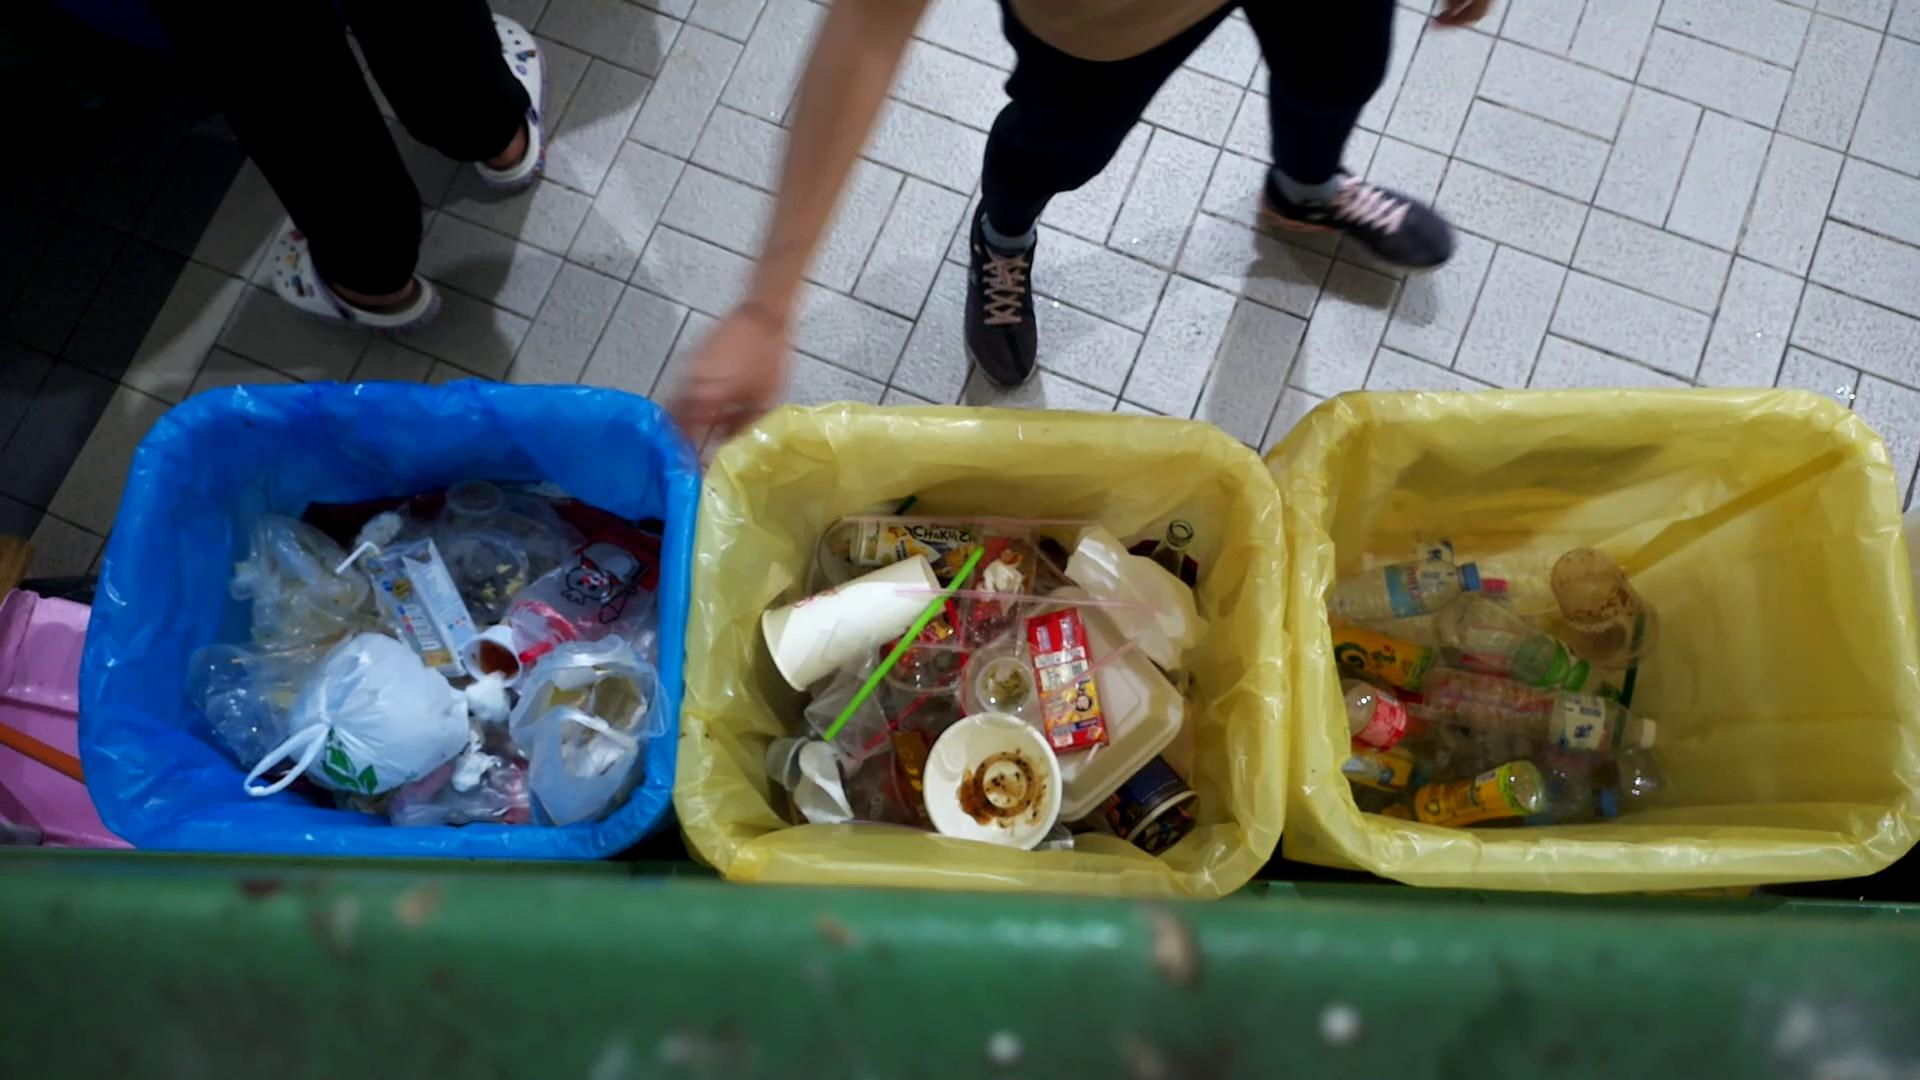filled plastic bag: (240, 632, 472, 798), (506, 634, 662, 825)
food container: (922, 709, 1064, 851)
milk carton: (364, 538, 477, 680), (1025, 608, 1110, 752)
plastic bag: (224, 510, 364, 644)
plastic bottle: (1412, 669, 1660, 754), (1389, 758, 1552, 828), (1332, 556, 1480, 624)
plastic cup: (1549, 549, 1664, 670)
straw: (820, 549, 986, 742)
tissue paper: (464, 669, 516, 732)
zero waste cup: (762, 556, 945, 694)
